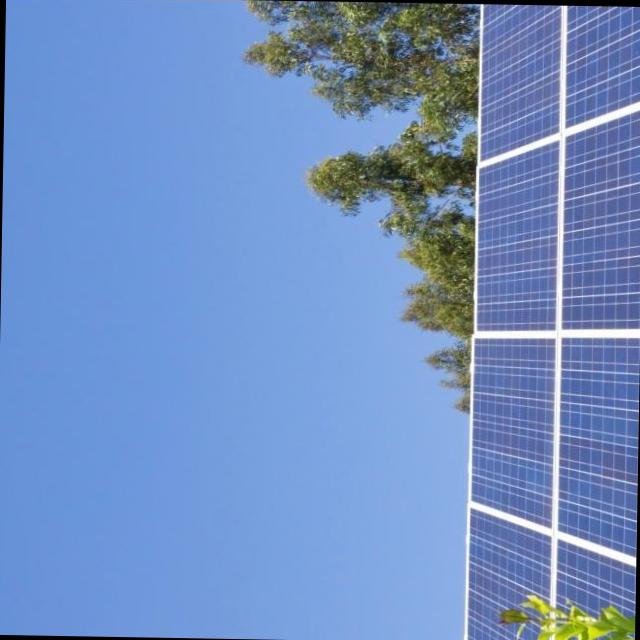no faulty: (556, 341, 638, 555), (563, 111, 640, 329), (471, 336, 553, 524), (478, 147, 556, 331), (476, 3, 557, 159), (468, 509, 546, 640), (563, 11, 640, 123), (556, 536, 635, 609)
